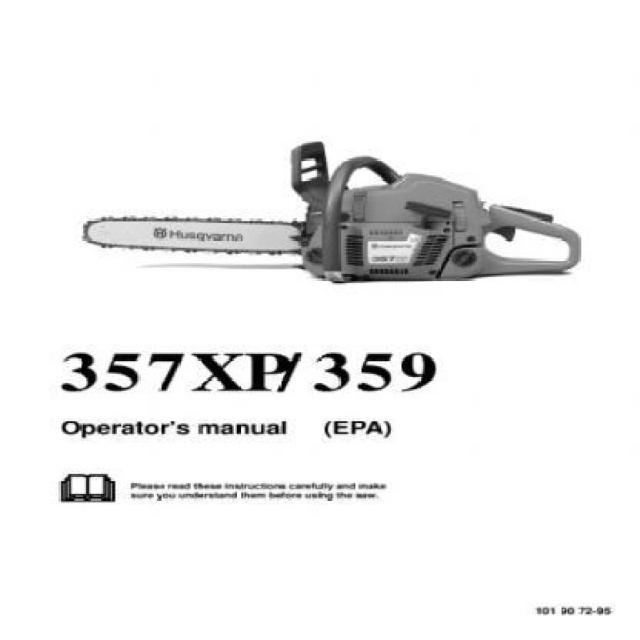Chainsaw: (68, 142, 584, 292)
